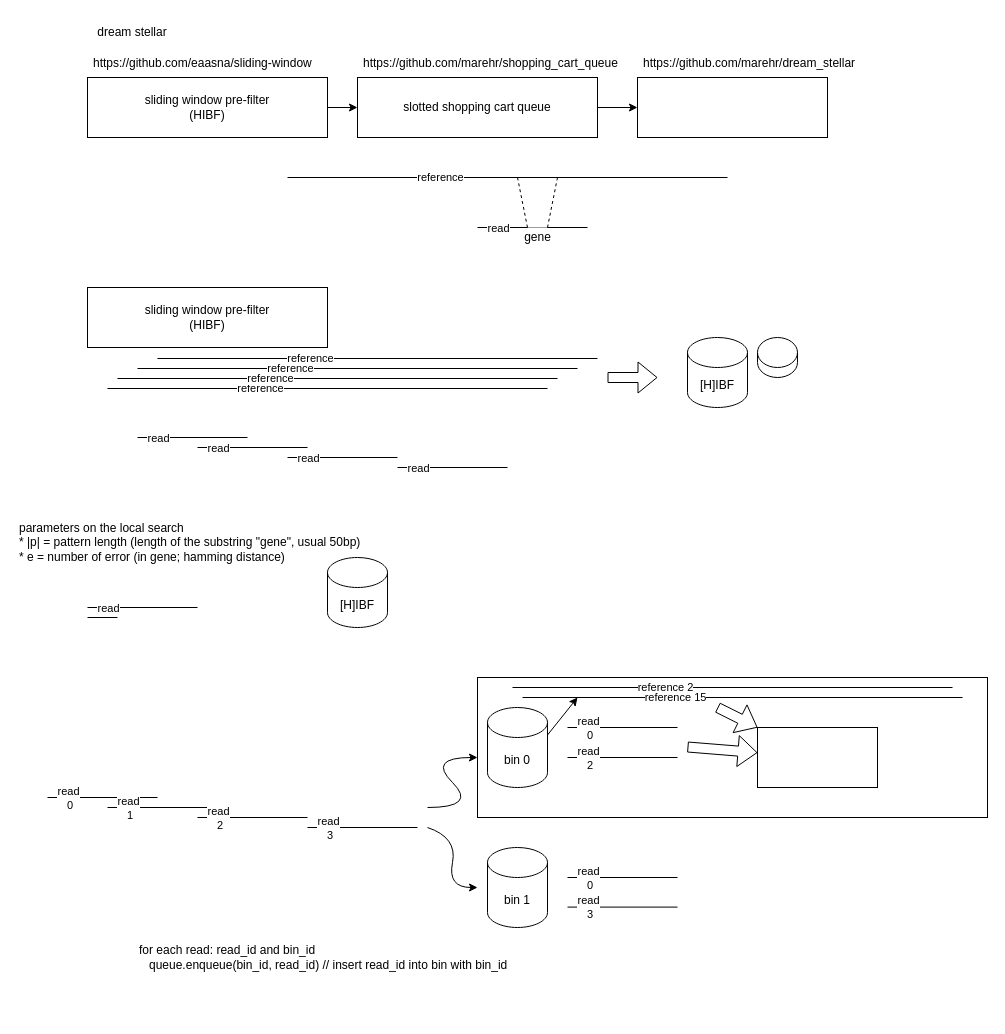
This 1005x1034 diagram has some shape labels left out. Here are the shapes that lost their labels. From the top down, the box of each, then its label:
(636, 76, 828, 138): stellar Problem: local alignment
(756, 336, 798, 378): similar reference sequences in each bin
(756, 726, 878, 788): stellar
